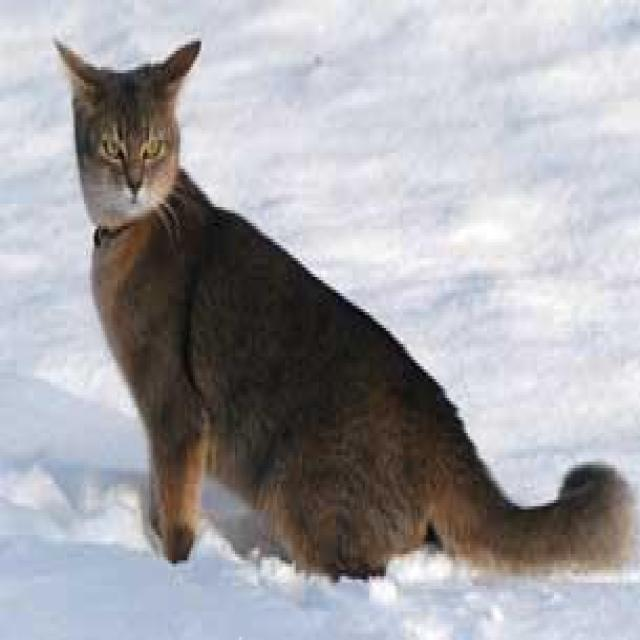cat: (52, 35, 634, 586)
